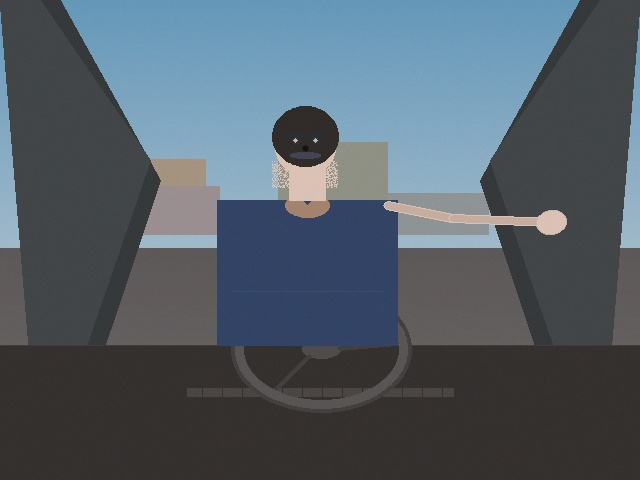hands_off_wheel: (531, 201, 572, 243)
